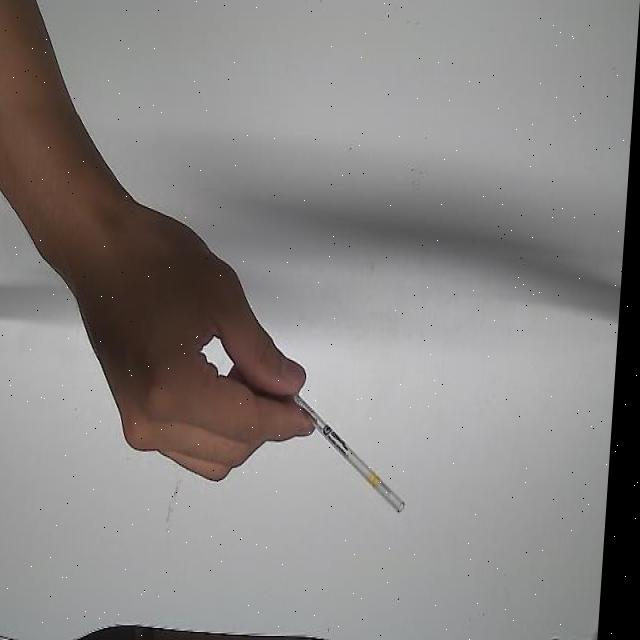Serelogical Pipet 1 mL: (245, 353, 422, 519)
